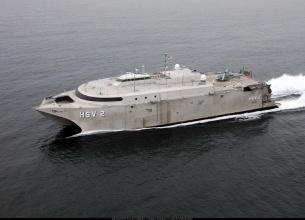warship: (35, 50, 276, 143)
